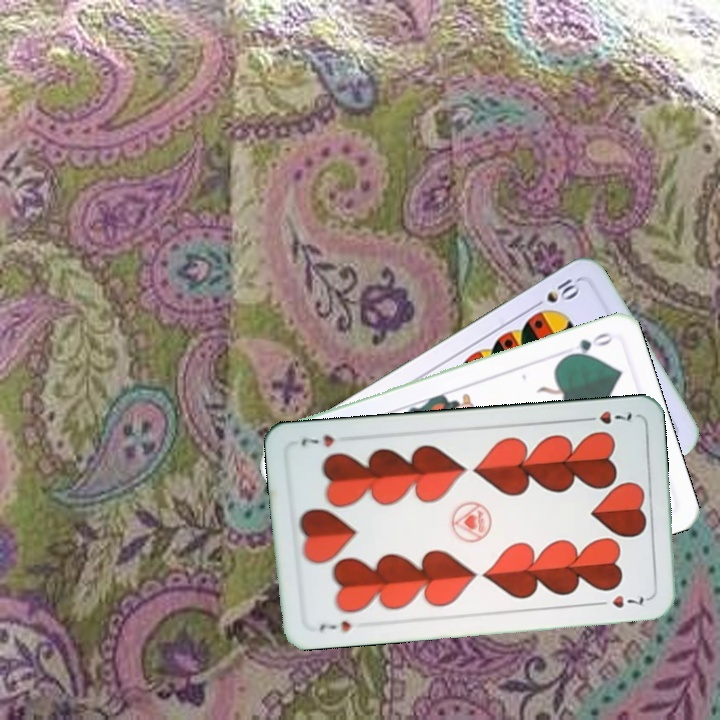GO: (560, 328, 616, 361)
H7: (578, 406, 635, 427), (315, 617, 354, 635)
S10: (528, 274, 583, 312)
